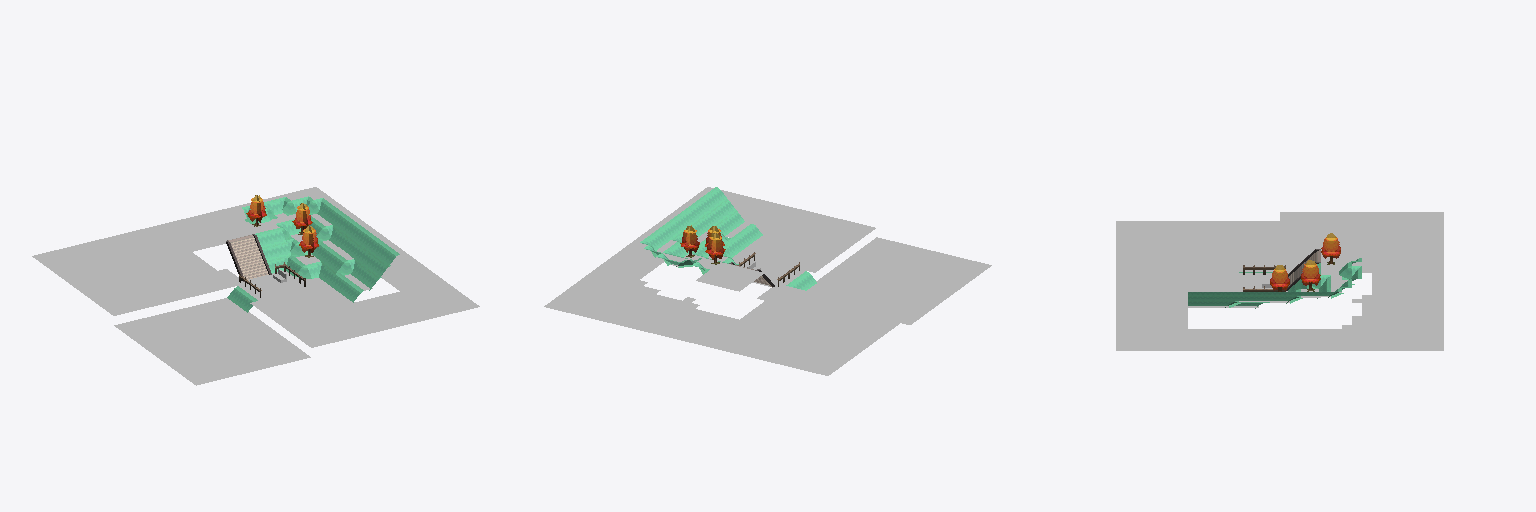
The picture shows the model from 3 angles: view 1: azimuth 30°, elevation 25°; view 2: azimuth 150°, elevation 25°; view 3: azimuth 270°, elevation 25°; orthographic projection.
Parts seen in each view (by area): view 1: map; view 2: map; view 3: map.
Part boxes in pixels (left/top/right/bottom): map: left=32, top=187, right=479, bottom=385; map: left=544, top=187, right=991, bottom=375; map: left=1116, top=212, right=1443, bottom=350.
Size of the model in its own units: 32 by 7.77 by 32.
Materials: 12 (7 with a texture image).